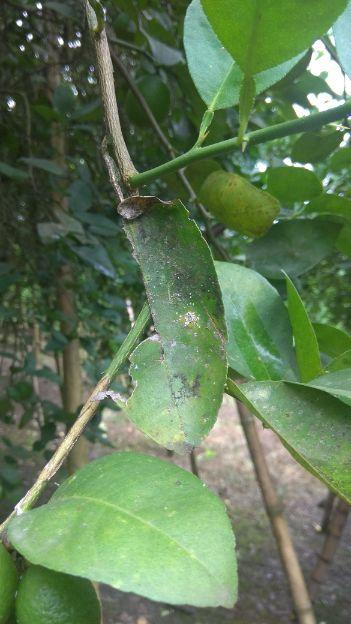Myzus persicae: (185, 313, 197, 325)
